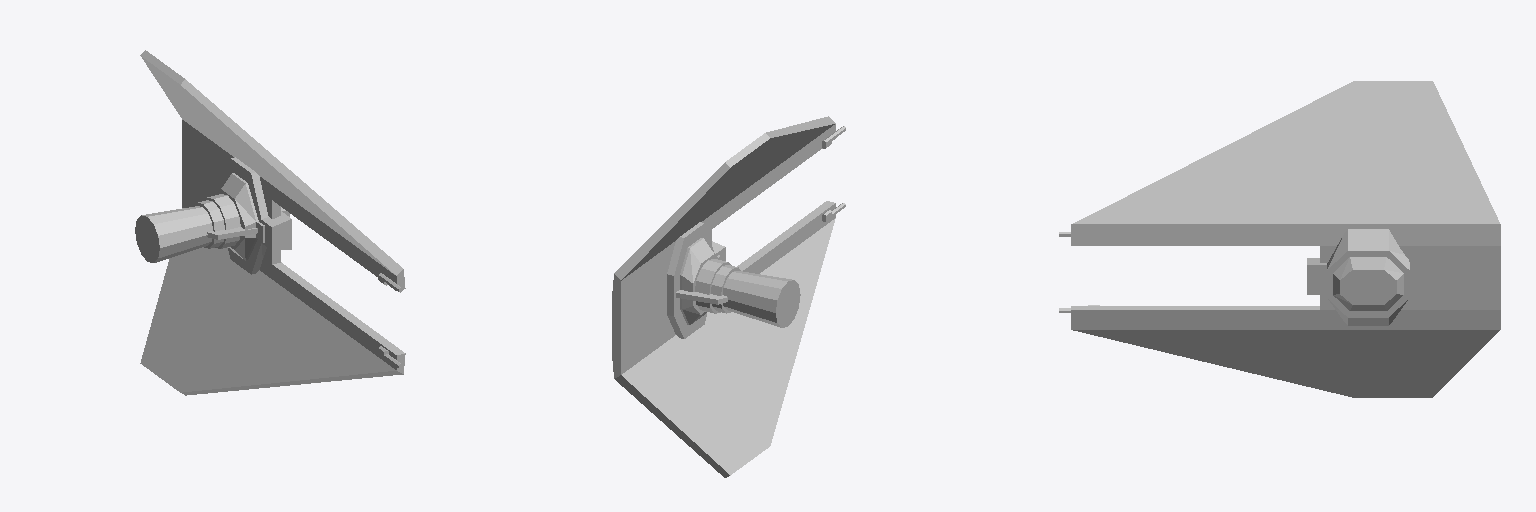
Rendered from tie-win-l.obj.
The picture shows the model from 3 angles: view 1: azimuth 30°, elevation 25°; view 2: azimuth 150°, elevation 25°; view 3: azimuth 270°, elevation 25°; orthographic projection.
Parts seen in each view (by area): view 1: WingLeft; view 2: WingLeft; view 3: WingLeft.
Part boxes in pixels (x1,y1,x2,y2): WingLeft: (135, 50, 405, 395); WingLeft: (612, 116, 845, 477); WingLeft: (1059, 81, 1500, 397).
Bounding box in the file's own units: 274 × 643 × 814.